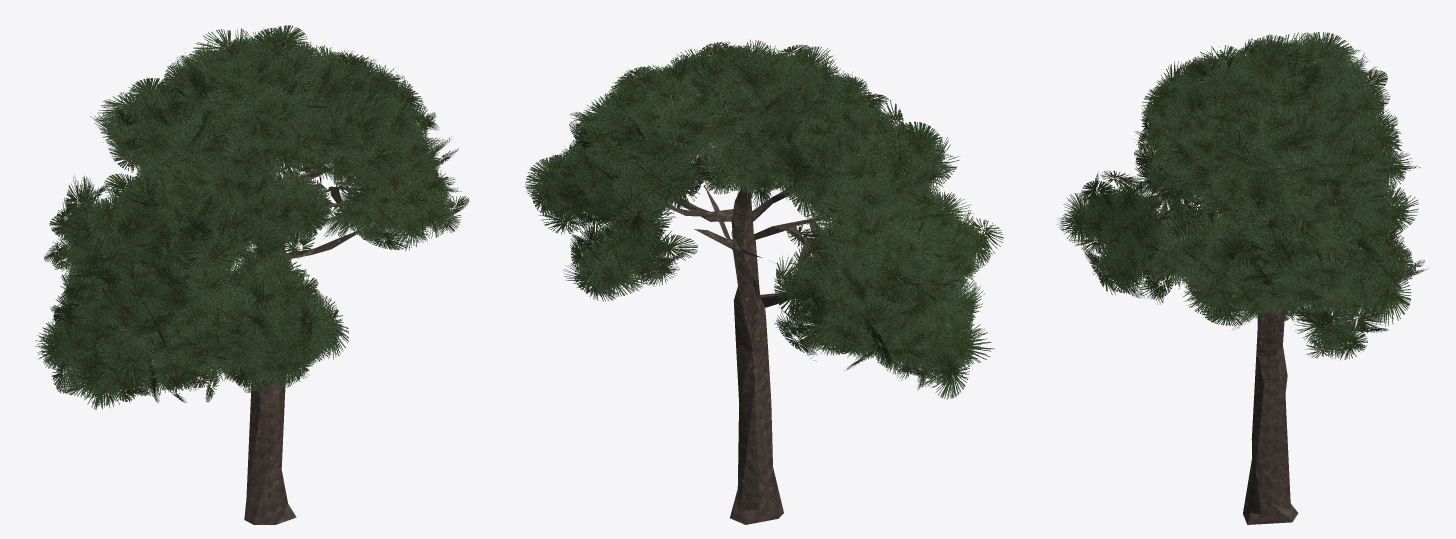
Rendered from tree-pine-r19b.glb.
3 views of the same model, side by side, from view 1: azimuth 30°, elevation 25°; view 2: azimuth 150°, elevation 25°; view 3: azimuth 270°, elevation 25° (orthographic).
Parts seen in each view (by area): view 1: foliage-cards, Mesh_0; view 2: foliage-cards, Mesh_0; view 3: foliage-cards, Mesh_0.
Boxes of the visible parts, left/top/right/bottom form: foliage-cards: left=35, top=25, right=469, bottom=409; Mesh_0: left=70, top=64, right=435, bottom=524; foliage-cards: left=525, top=40, right=1003, bottom=398; Mesh_0: left=546, top=74, right=959, bottom=524; foliage-cards: left=1057, top=32, right=1428, bottom=360; Mesh_0: left=1107, top=79, right=1379, bottom=524.
Size of the model in its own units: 1.79 by 1.82 by 1.35.
Materials: 2 (2 with a texture image).
